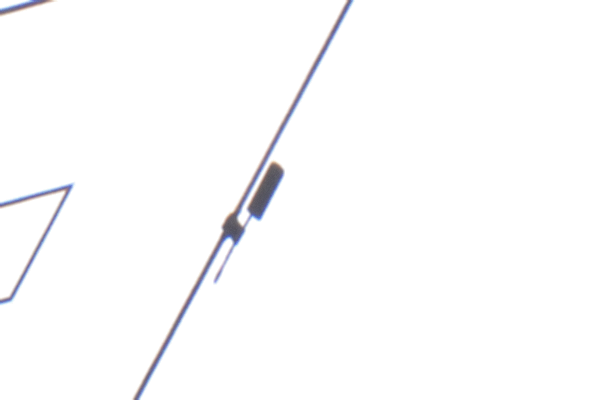damper_defect: (208, 156, 288, 288)
